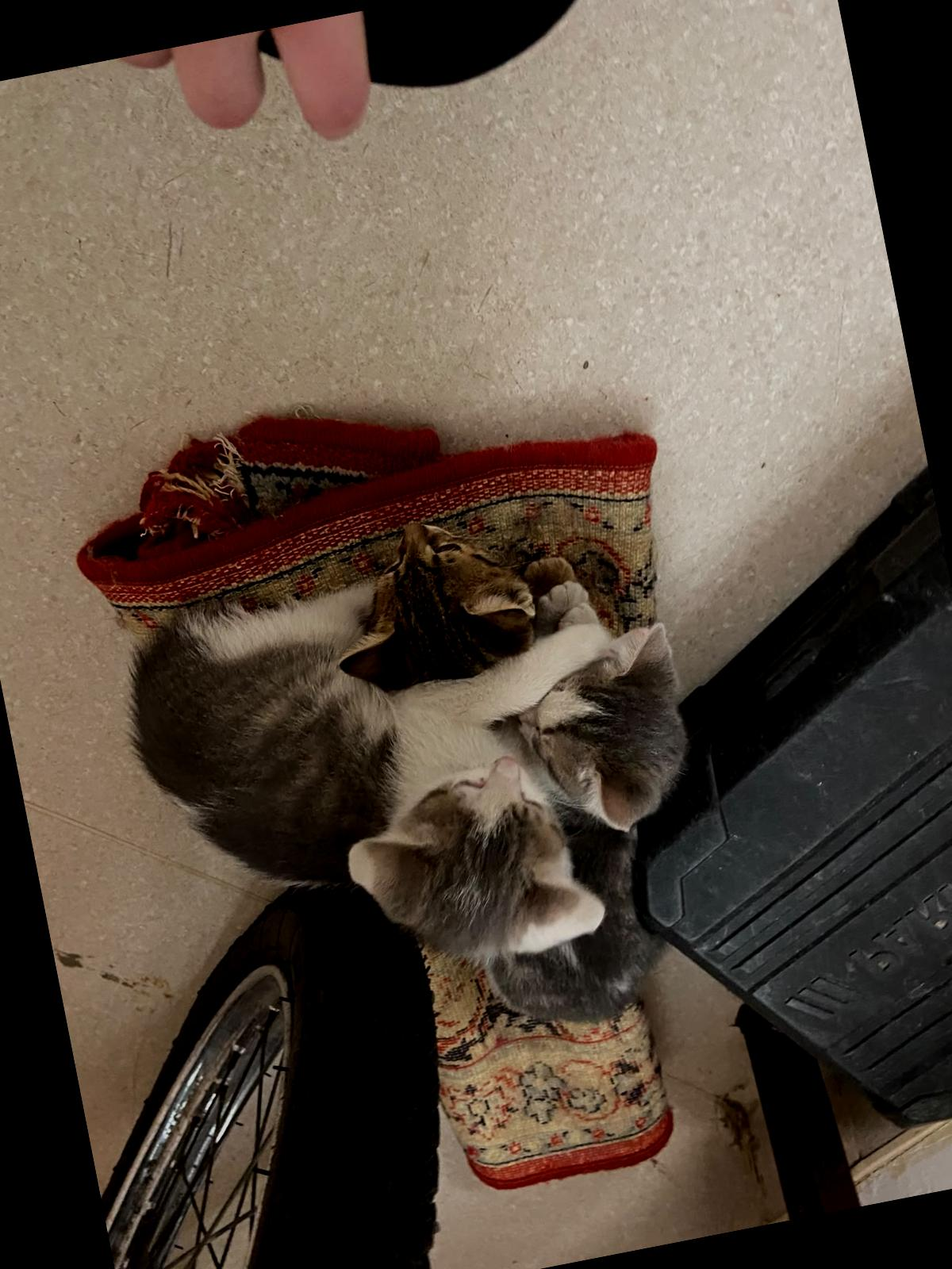macka: (113, 535, 675, 1019), (424, 621, 739, 1040), (311, 491, 591, 702)
